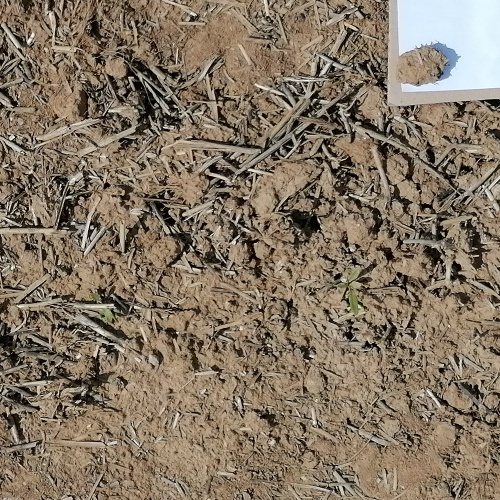beet: (336, 267, 370, 313), (91, 292, 121, 323)
